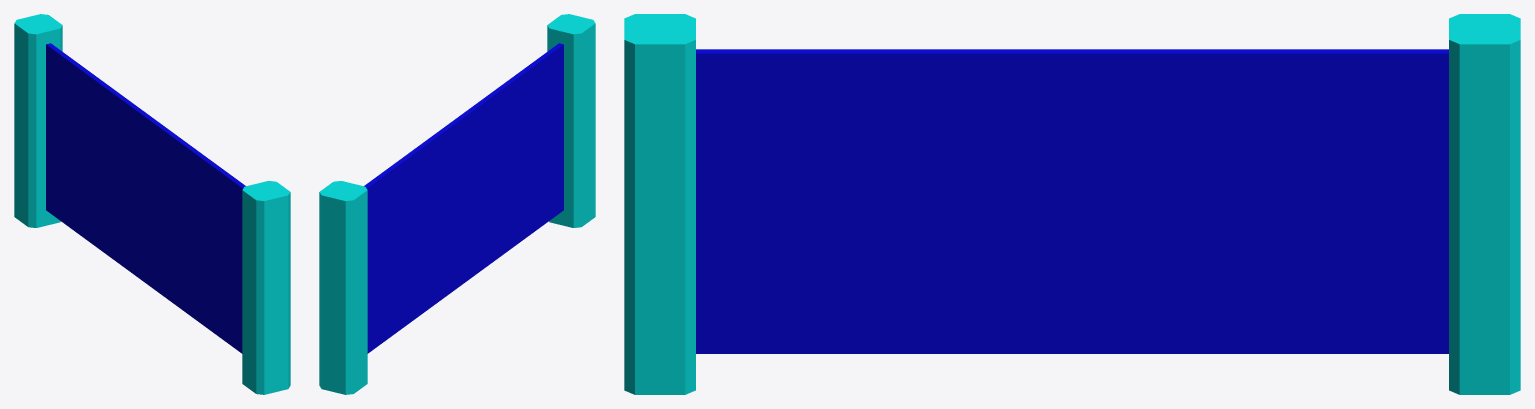
File: Gate.fbx
3 views of the same model, side by side, from view 1: azimuth 30°, elevation 25°; view 2: azimuth 150°, elevation 25°; view 3: azimuth 270°, elevation 25° (orthographic). The views are drawn at different scales.
Parts seen in each view (by area): view 1: Gate; view 2: Gate; view 3: Gate.
Part boxes in pixels (box(x1,y1,x2,y2)): Gate: box(14, 14, 290, 394); Gate: box(319, 14, 595, 394); Gate: box(624, 14, 1520, 394).
Size of the model in its own units: 1 by 5.4 by 12.5.
